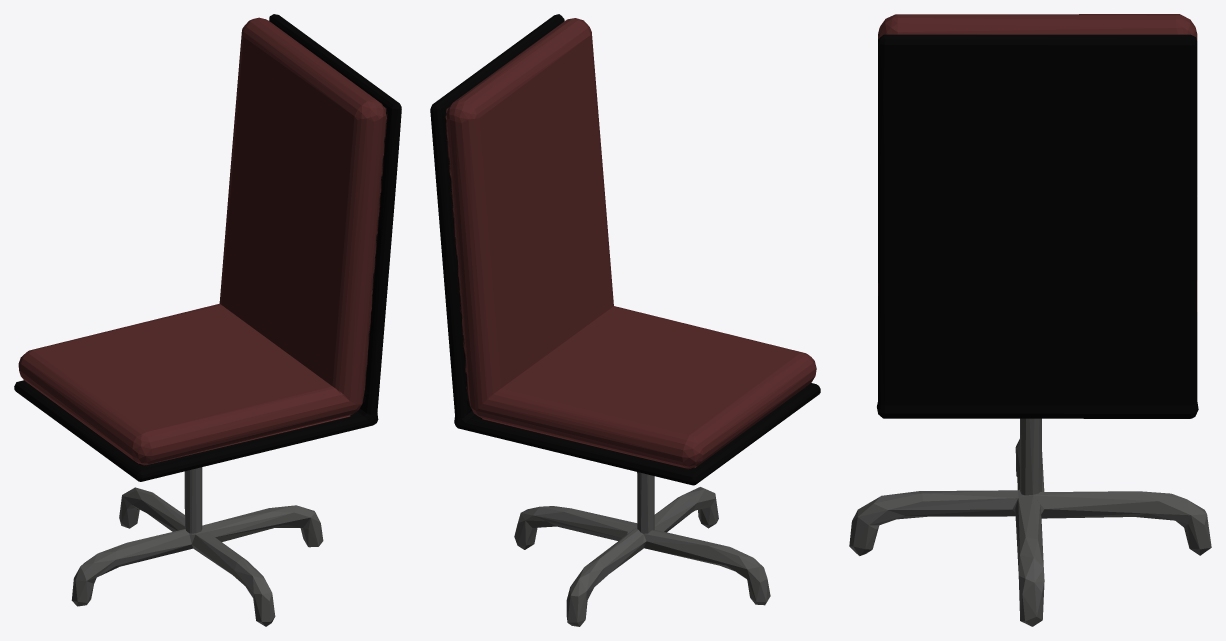
Rendered from drehstuhl.glb.
3 views of the same model, side by side, from view 1: azimuth 30°, elevation 25°; view 2: azimuth 150°, elevation 25°; view 3: azimuth 270°, elevation 25° (orthographic). The views are drawn at different scales.
Visible parts, largest first — view 1: 282318_23_05_24_17_51_35_0, 282318_23_05_24_17_51_35_1; view 2: 282318_23_05_24_17_51_35_0, 282318_23_05_24_17_51_35_1; view 3: 282318_23_05_24_17_51_35_0, 282318_23_05_24_17_51_35_1.
Part boxes in pixels (x1,y1,x2,y2): 282318_23_05_24_17_51_35_0: (14,14,401,533); 282318_23_05_24_17_51_35_1: (71,487,323,626); 282318_23_05_24_17_51_35_0: (430,14,820,533); 282318_23_05_24_17_51_35_1: (514,487,770,626); 282318_23_05_24_17_51_35_0: (877,14,1198,495); 282318_23_05_24_17_51_35_1: (849,439,1211,626).
Bounding box in the file's own units: 5.7 × 9.77 × 5.25.
Materials: 2 (2 with a texture image).
